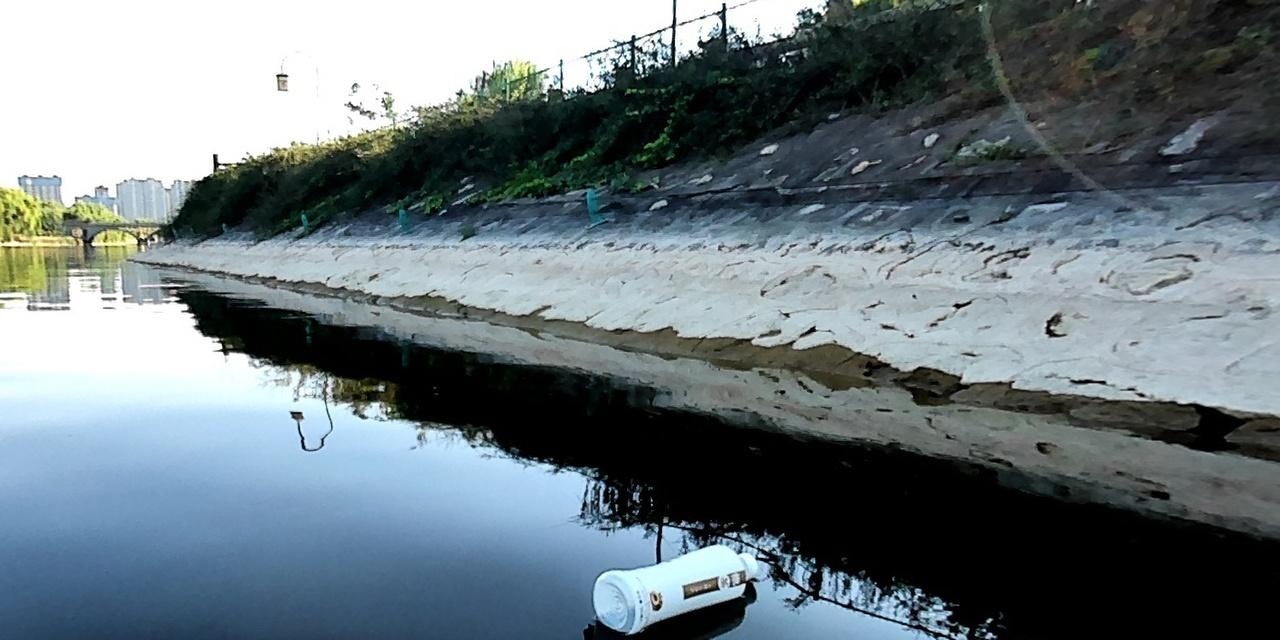bottle: (588, 540, 758, 639)
